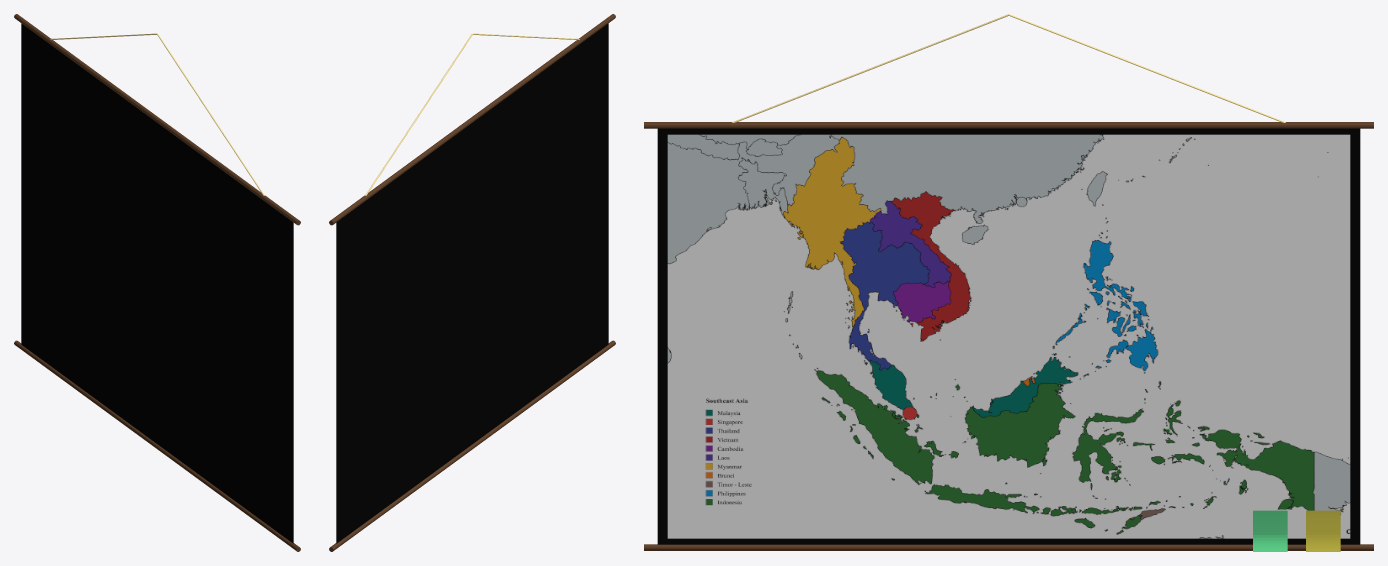
Rendered from Map_Gantung.fbx.
The picture shows the model from 3 angles, left to right: view 1: azimuth 30°, elevation 25°; view 2: azimuth 150°, elevation 25°; view 3: azimuth 270°, elevation 25°; orthographic projection. The views are drawn at different scales.
Visible parts, largest first — view 1: Map_Content.001; view 2: Map_Content.001; view 3: Map_Content.001, Plane.016, Plane.017.
Part boxes in pixels (bbox=[...]): Map_Content.001: bbox=[14, 14, 300, 551]; Map_Content.001: bbox=[329, 14, 615, 551]; Map_Content.001: bbox=[644, 14, 1373, 550]; Plane.016: bbox=[1253, 510, 1287, 551]; Plane.017: bbox=[1306, 510, 1340, 551].
Size of the model in its own units: 11.1 by 508 by 627.
6 materials, 1 textured.
